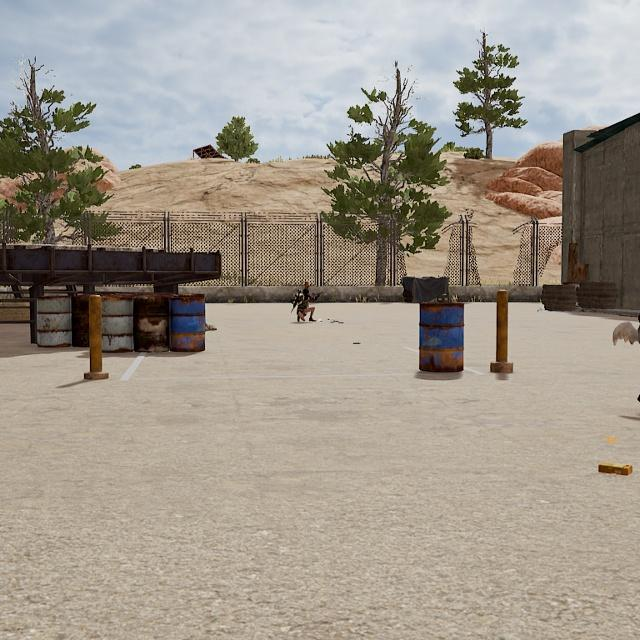head: (302, 288, 311, 297)
people: (295, 287, 318, 324)
